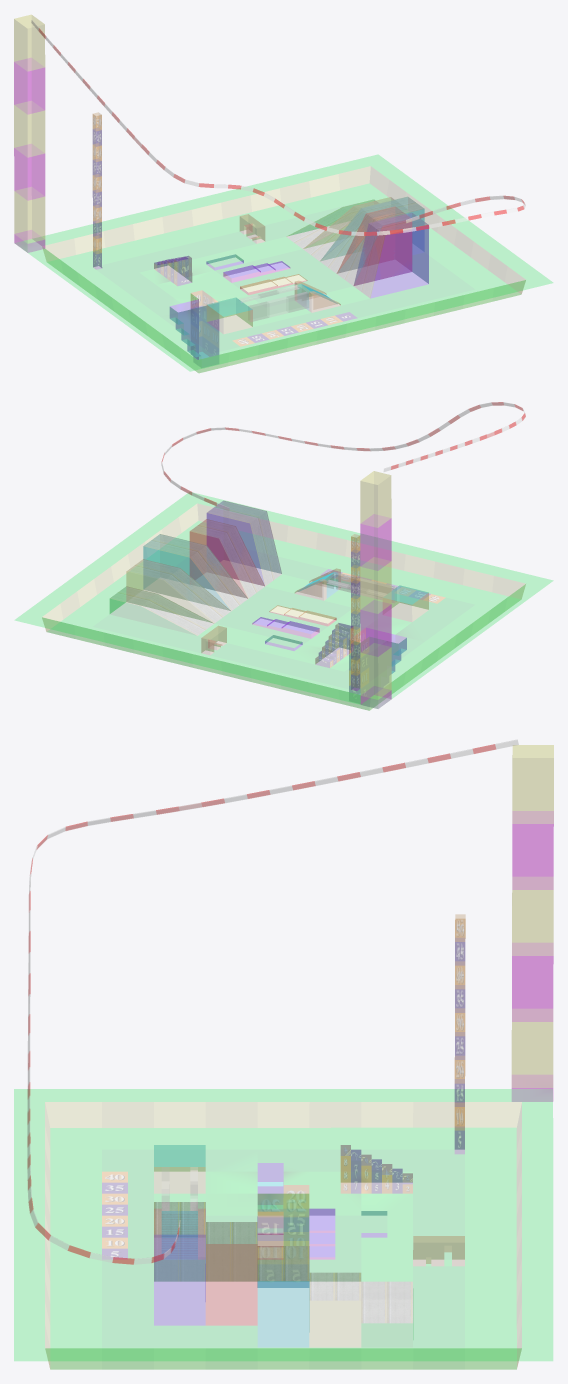
The model's file is TestLevel.glb.
The picture shows the model from 3 angles, top to bottom: view 1: azimuth 30°, elevation 25°; view 2: azimuth 150°, elevation 25°; view 3: azimuth 270°, elevation 25°; orthographic projection. The views are drawn at different scales.
Parts seen in each view (by area): view 1: Test Level; view 2: Test Level; view 3: Test Level.
Part boxes in pixels (bbox=[...]): Test Level: bbox=[14, 15, 552, 372]; Test Level: bbox=[15, 402, 552, 710]; Test Level: bbox=[14, 739, 553, 1369].
Size of the model in its own units: 645 by 520 by 540.
Materials: 28 (17 with a texture image).
